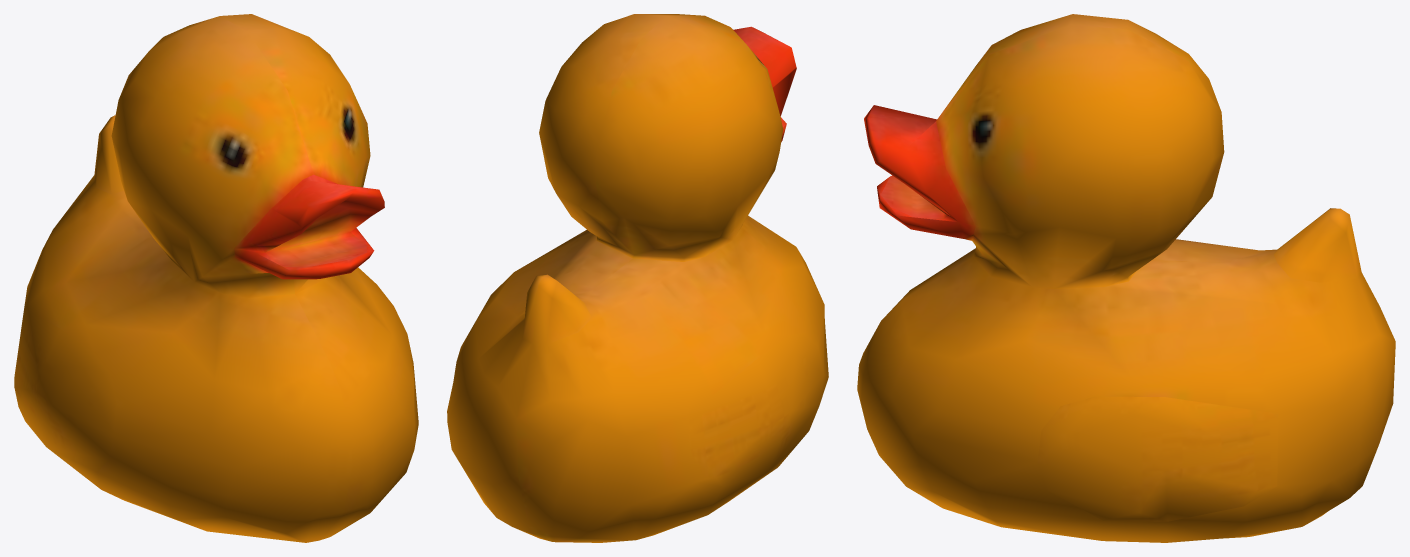
The model's file is rubber_duck_toy.glb.
3 renders of one model, left to right at view 1: azimuth 30°, elevation 25°; view 2: azimuth 150°, elevation 25°; view 3: azimuth 270°, elevation 25°, orthographic. The views are drawn at different scales.
Parts seen in each view (by area): view 1: rubber_duck_toy; view 2: rubber_duck_toy; view 3: rubber_duck_toy.
Part boxes in pixels (bbox=[...]): rubber_duck_toy: bbox=[14, 14, 418, 542]; rubber_duck_toy: bbox=[447, 14, 828, 542]; rubber_duck_toy: bbox=[857, 14, 1395, 542].
Bounding box in the file's own units: 0.2135 × 0.2847 × 0.2987.
Materials: 1 (1 with a texture image).
